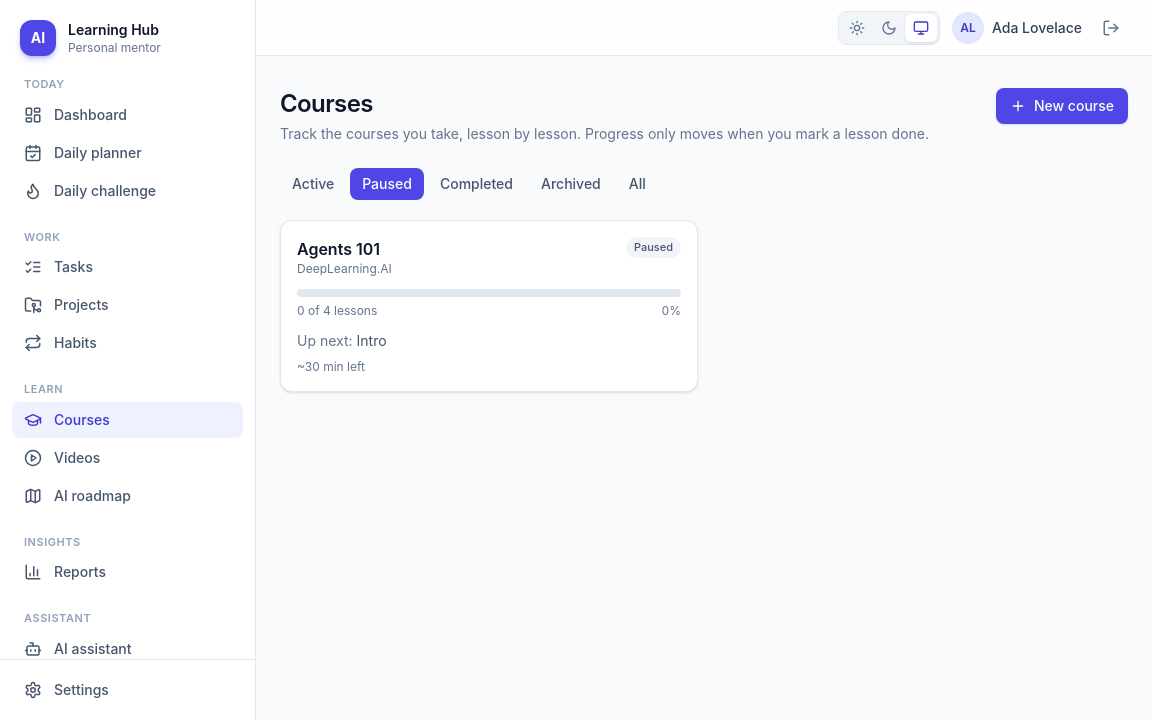
Test case: courses list › filters by status tab via the server and keeps the tab in the URL
expect the heading "Agents 101" is shown: met, box 297,237 -> 392,261
expect the text "Active one" is not shown: met
Click the tab "Active" at (313, 184), box 280,168 -> 346,200
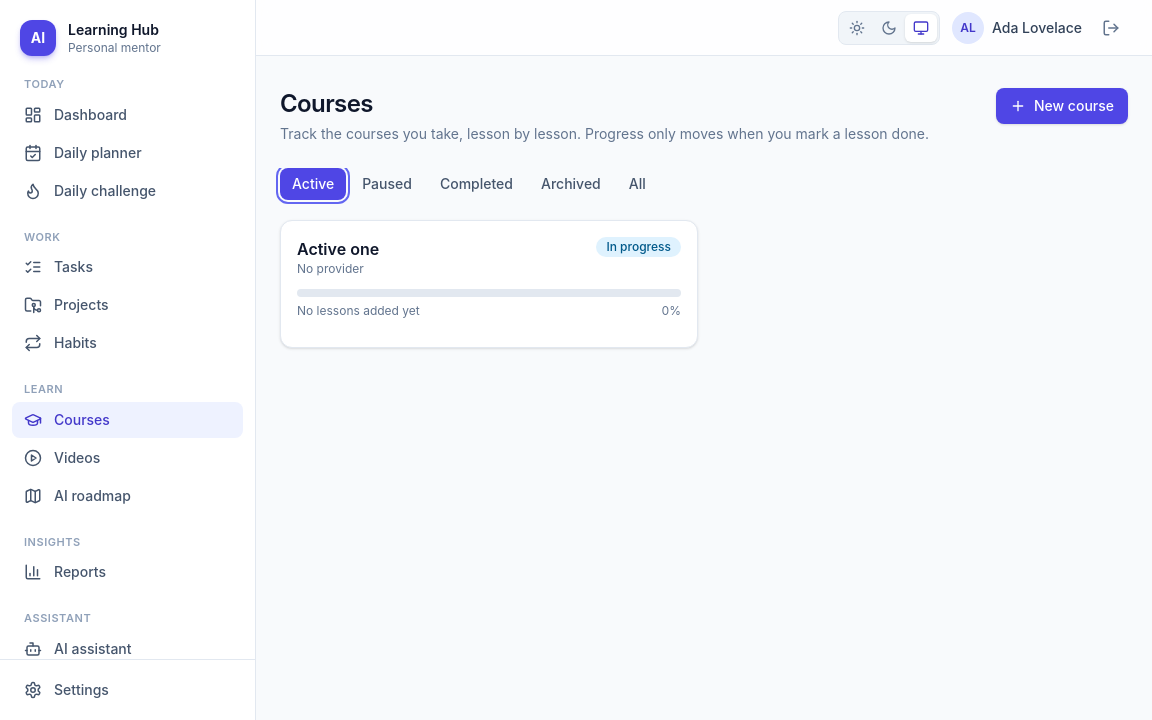
expect the heading "Active one" is shown: met, box 297,237 -> 379,261
